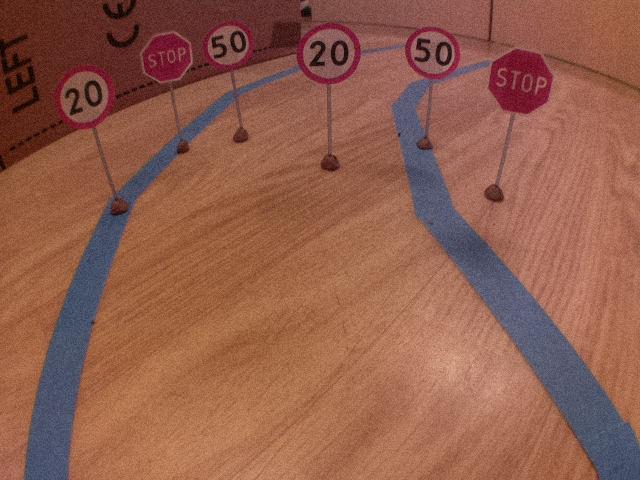ogr_20: (51, 62, 118, 132), (295, 20, 364, 87)
ogr_50: (403, 24, 464, 81), (201, 19, 256, 71)
stop: (486, 45, 556, 117), (138, 29, 196, 85)
